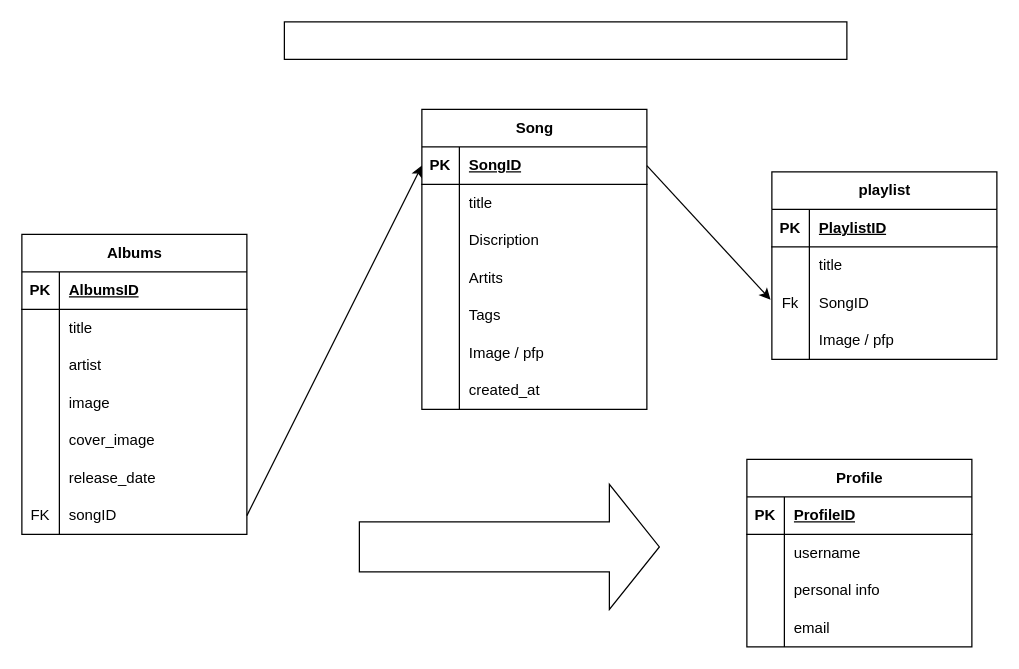
This 1019x669 diagram has some shape labels left out. The box of each missing label's shape, as (x1, y1, x2, y2) in pixels:
Music Player Databse desgin Version 1.0.0: (283, 21, 847, 59)
This is the database of the user profile connection: (358, 483, 659, 609)
